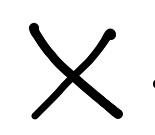mult: (26, 23, 124, 119)
